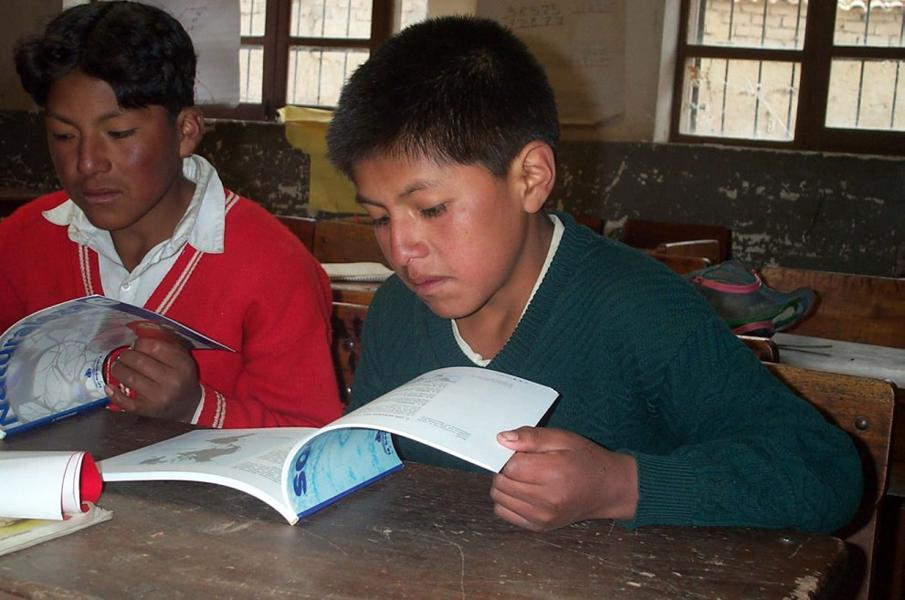person: (322, 17, 870, 543)
